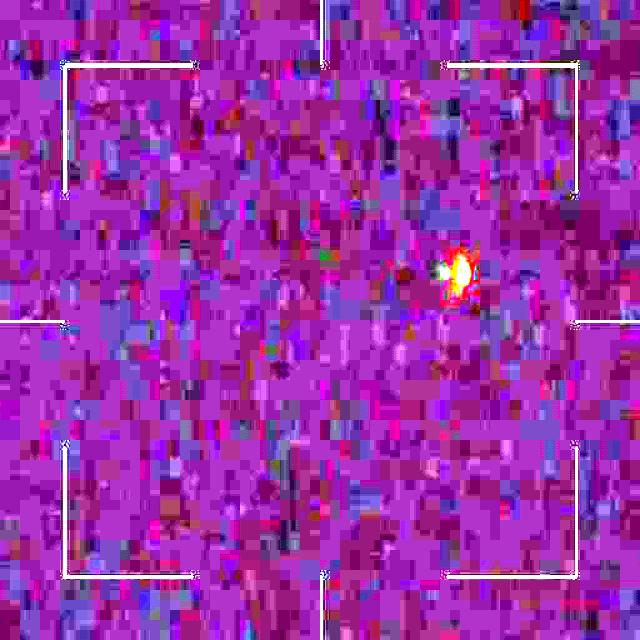bird: (439, 258, 472, 308)
